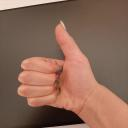ThumbsUp: (16, 20, 96, 116)
